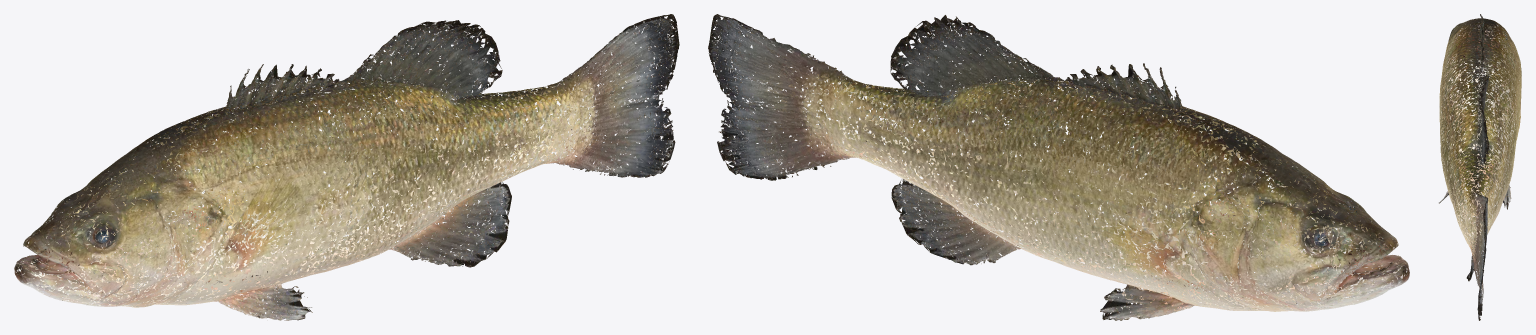
The model's file is bass.glb.
3 views of the same model, side by side, from view 1: azimuth 30°, elevation 25°; view 2: azimuth 150°, elevation 25°; view 3: azimuth 270°, elevation 25° (orthographic). The views are drawn at different scales.
Parts seen in each view (by area): view 1: Object_6; view 2: Object_6; view 3: Object_6.
Boxes of the visible parts, bbox=[...] form: Object_6: bbox=[14, 14, 679, 320]; Object_6: bbox=[708, 14, 1409, 320]; Object_6: bbox=[1439, 14, 1521, 320].
Size of the model in its own units: 12.47 by 4.38 by 1.78.
Materials: 1 (1 with a texture image).
